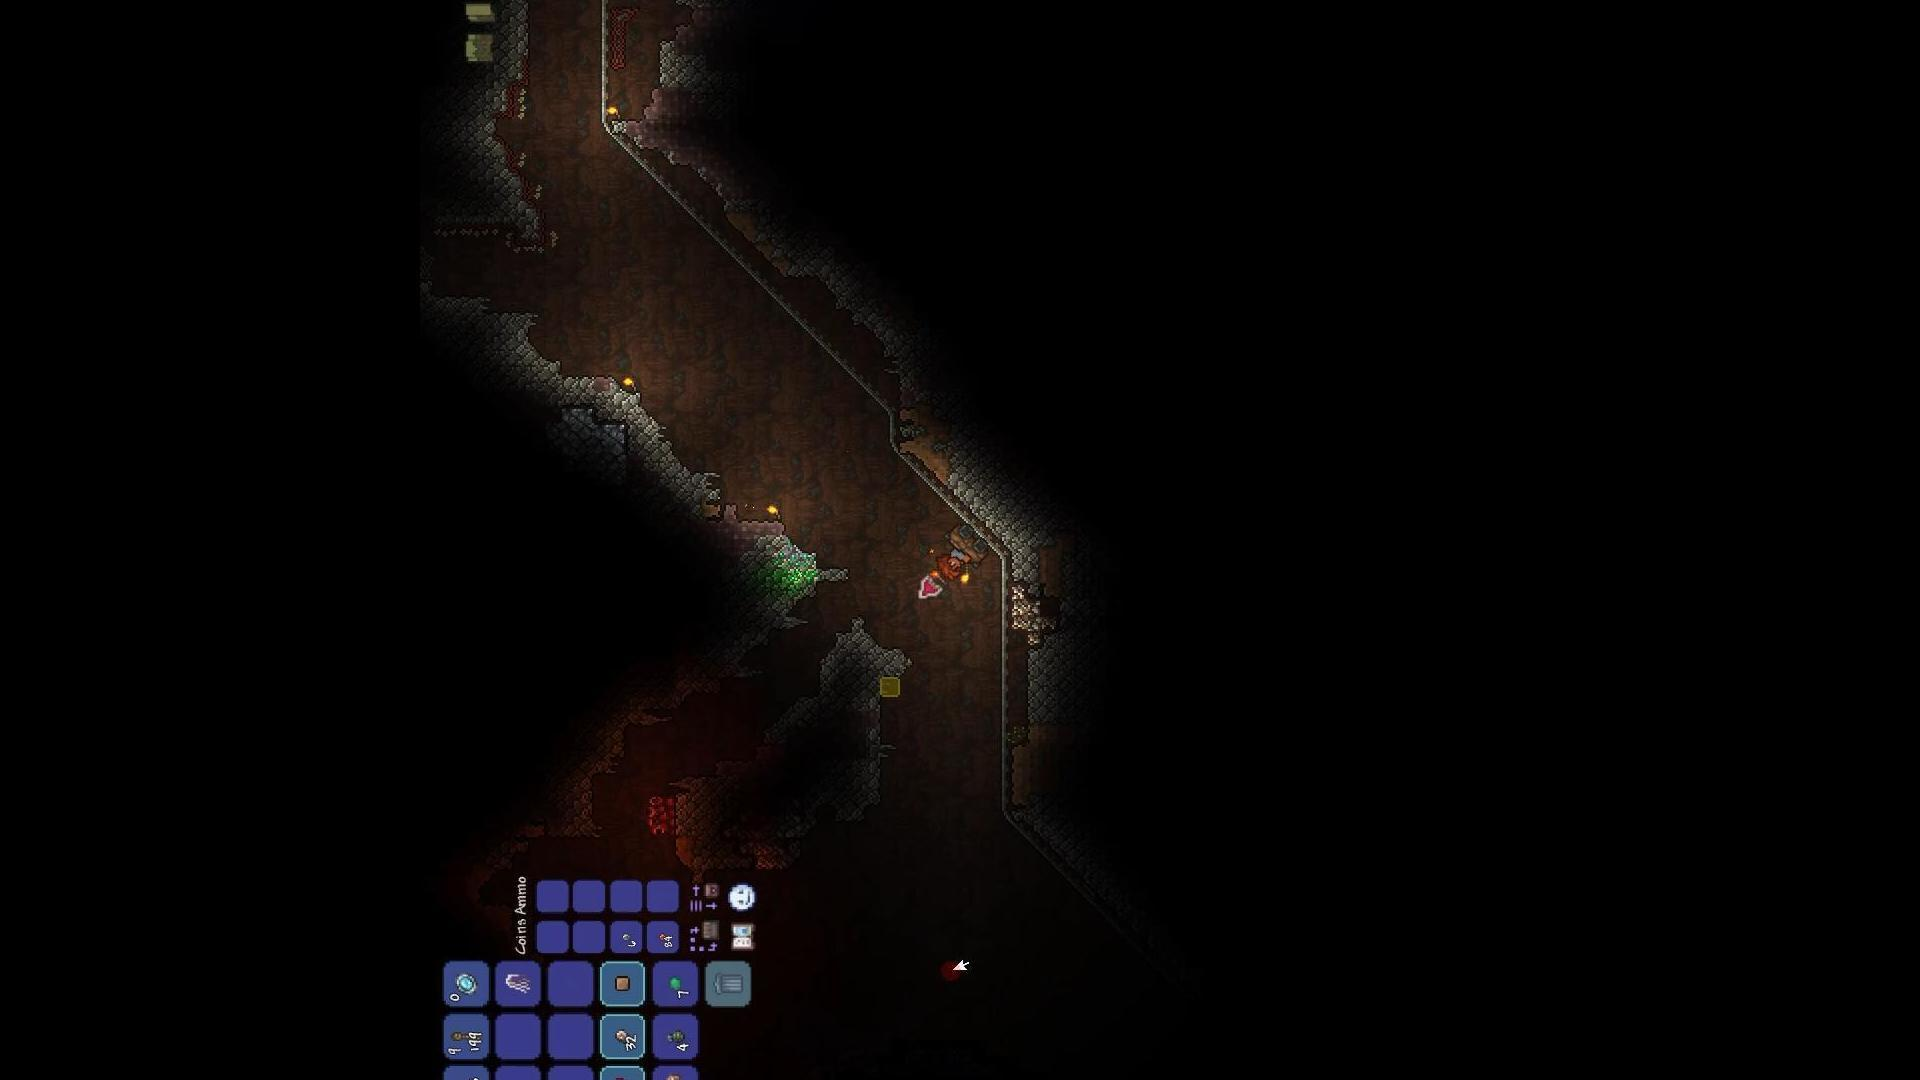altar: (638, 781, 679, 845)
